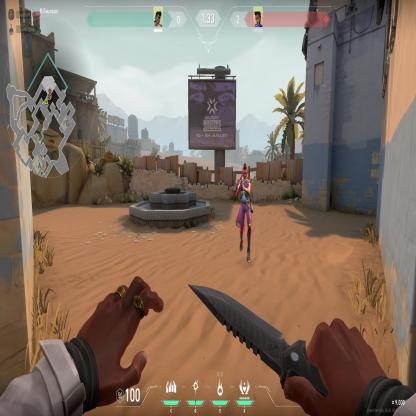enemy: (235, 162, 254, 265)
